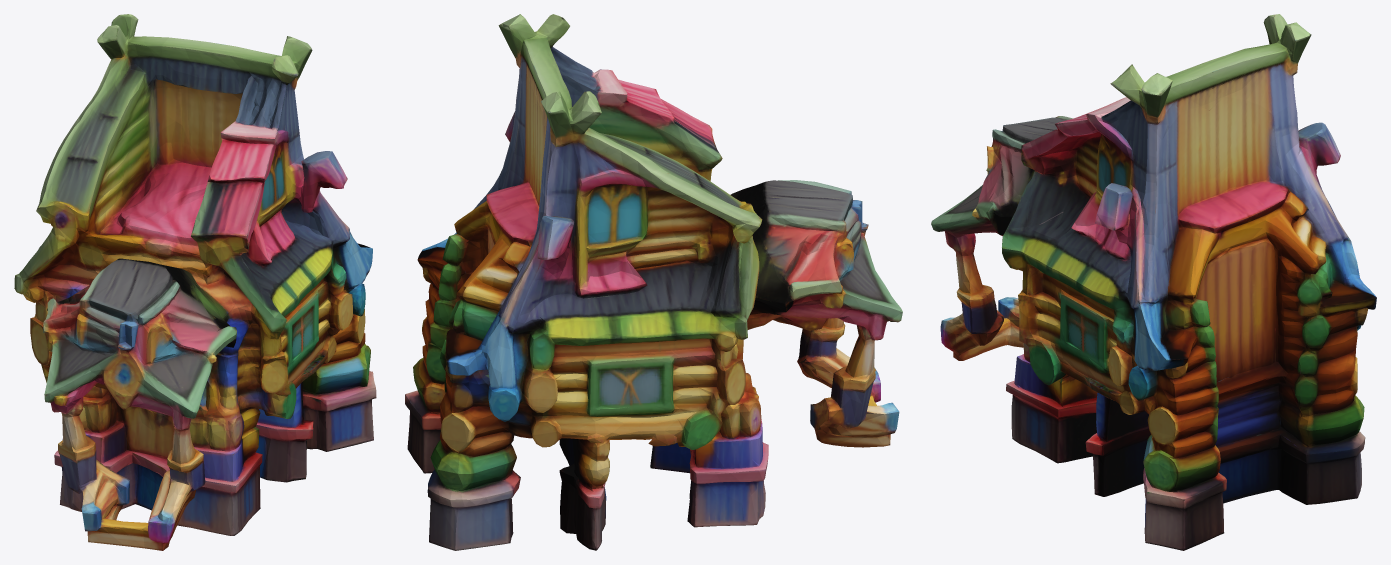
3 renders of one model, left to right at view 1: azimuth 30°, elevation 25°; view 2: azimuth 150°, elevation 25°; view 3: azimuth 270°, elevation 25°, orthographic. The views are drawn at different scales.
Parts seen in each view (by area): view 1: world; view 2: world; view 3: world.
Part boxes in pixels (x1=…): world: x1=14, y1=14, x2=376, y2=550; world: x1=405, y1=14, x2=902, y2=550; world: x1=931, y1=14, x2=1376, y2=550.
Bounding box in the file's own units: 0.7168 × 0.7213 × 0.6768.
1 material, 1 textured.
